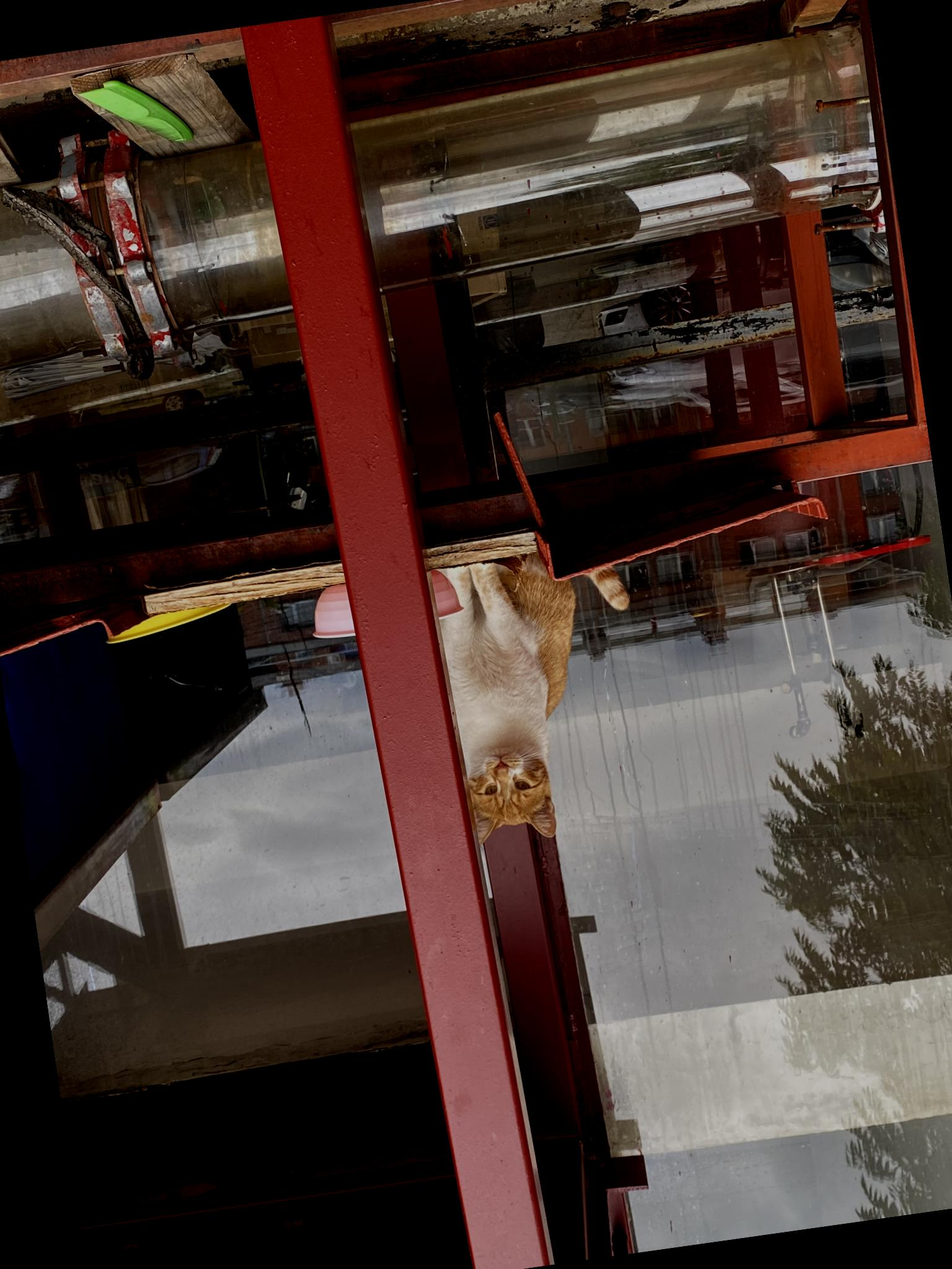macka: (435, 543, 664, 850)
